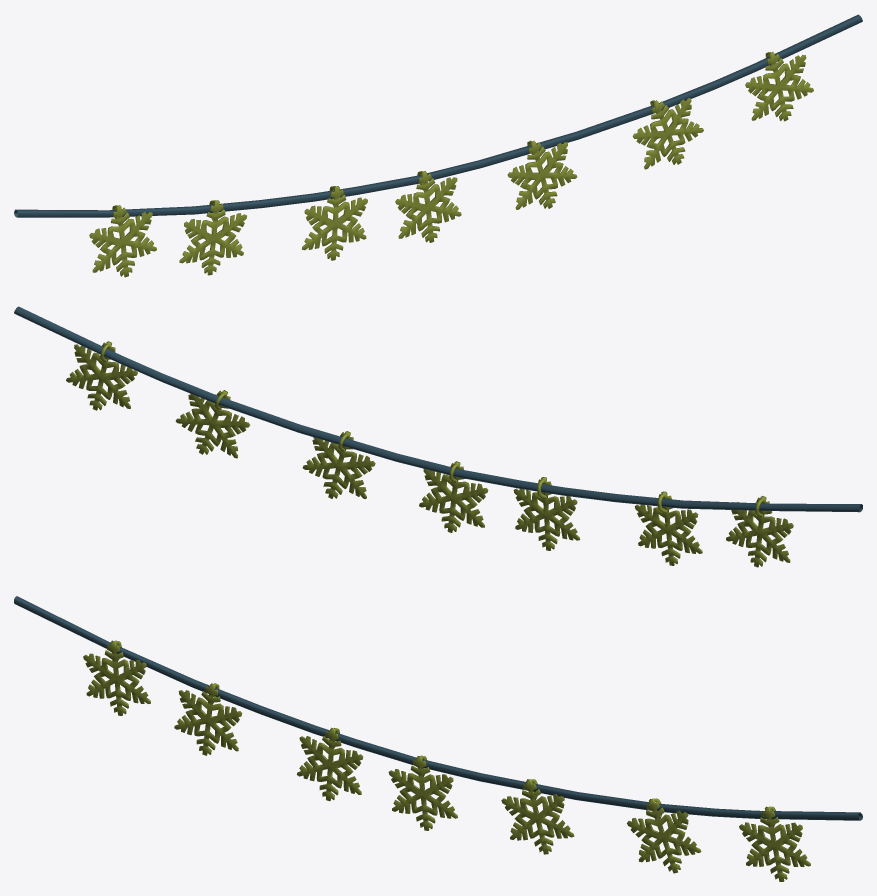
The model's file is snowflake-decor.fbx.
The picture shows the model from 3 angles, top to bottom: view 1: azimuth 30°, elevation 25°; view 2: azimuth 150°, elevation 25°; view 3: azimuth 330°, elevation 25°; orthographic projection.
Visible parts, largest first — view 1: backgroundyoule1; view 2: backgroundyoule1; view 3: backgroundyoule1.
Part boxes in pixels (x1,y1,x2,y2): backgroundyoule1: (14,14,862,277); backgroundyoule1: (14,306,862,567); backgroundyoule1: (14,596,862,881).
Bounding box in the file's own units: 15.77 × 2.32 × 0.2647.
